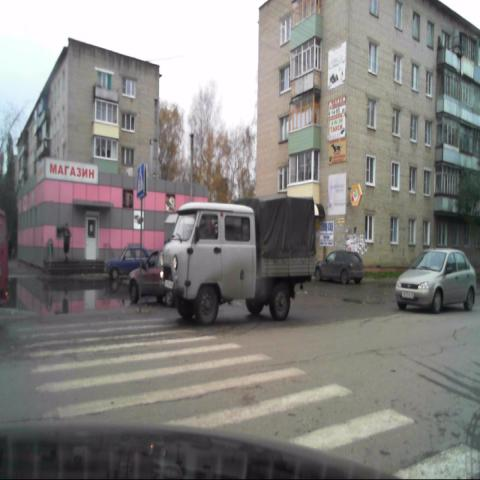5_19_1: (136, 163, 145, 200)
